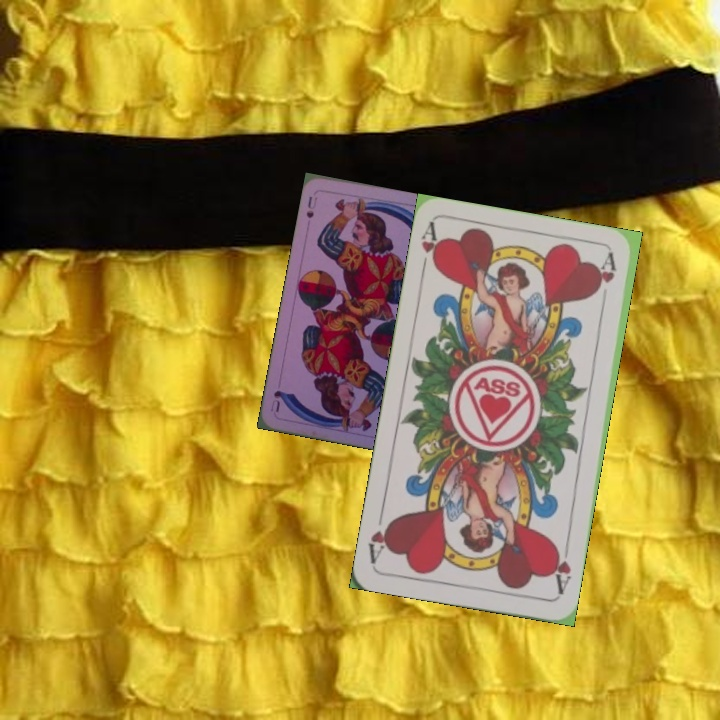HA: (416, 220, 444, 279), (547, 542, 574, 598)
SU: (302, 192, 320, 221)
